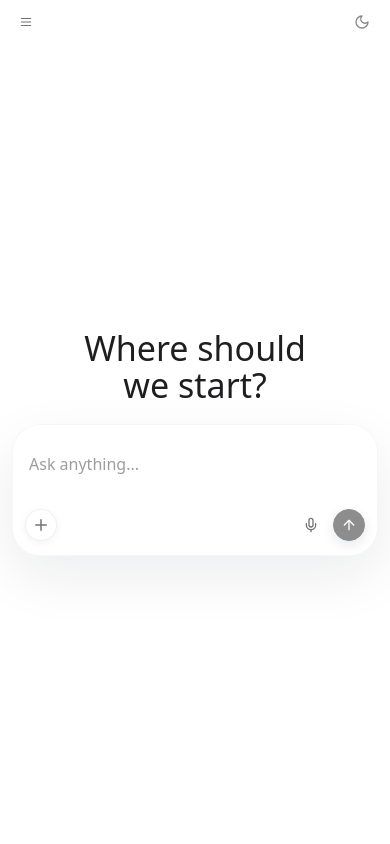
Test case: App layout › keeps the mobile session action menu inside the sidebar sheet
The image size is (390, 844).
Click the button named "Toggle sidebar".
click(26, 22)  # box [12, 8, 40, 36]
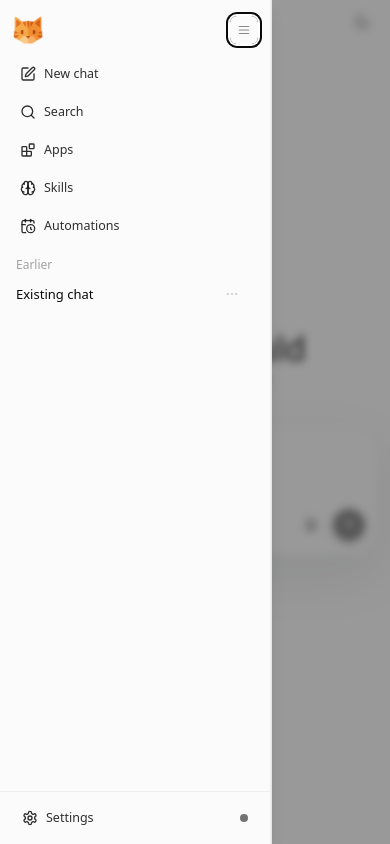
expect the button "Existing chat" is shown: met, box [16, 278, 188, 310]
Press the mouse on the button named "Chat actions for Existing chat" at (232, 294), box [220, 282, 244, 306]
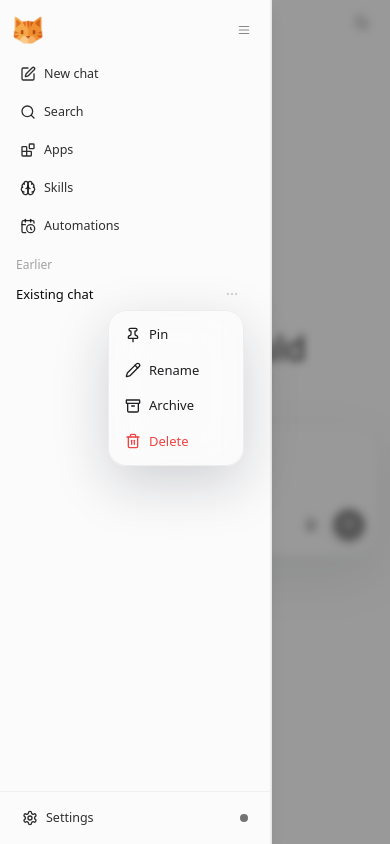
expect the menu item "Delete" is shown: met
Click the menu item "Delete".
click(157, 440)  # box [125, 432, 188, 450]
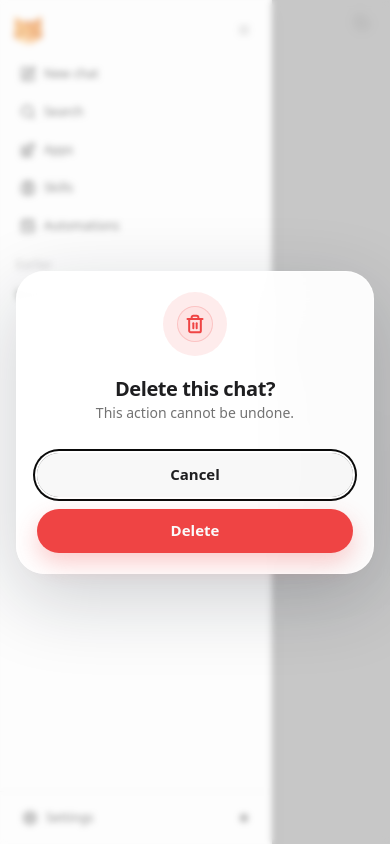
expect the heading "Delete this chat?" is shown: met, box [115, 376, 275, 400]
